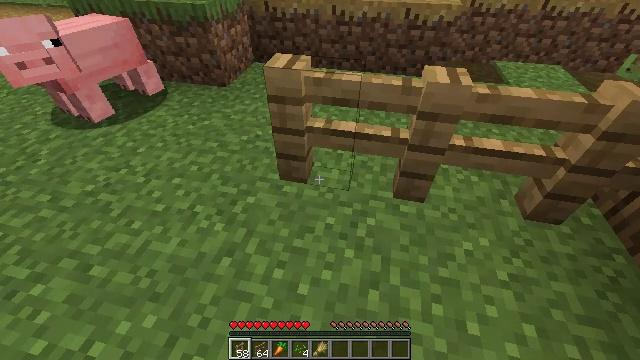pig: (0, 12, 165, 122)
